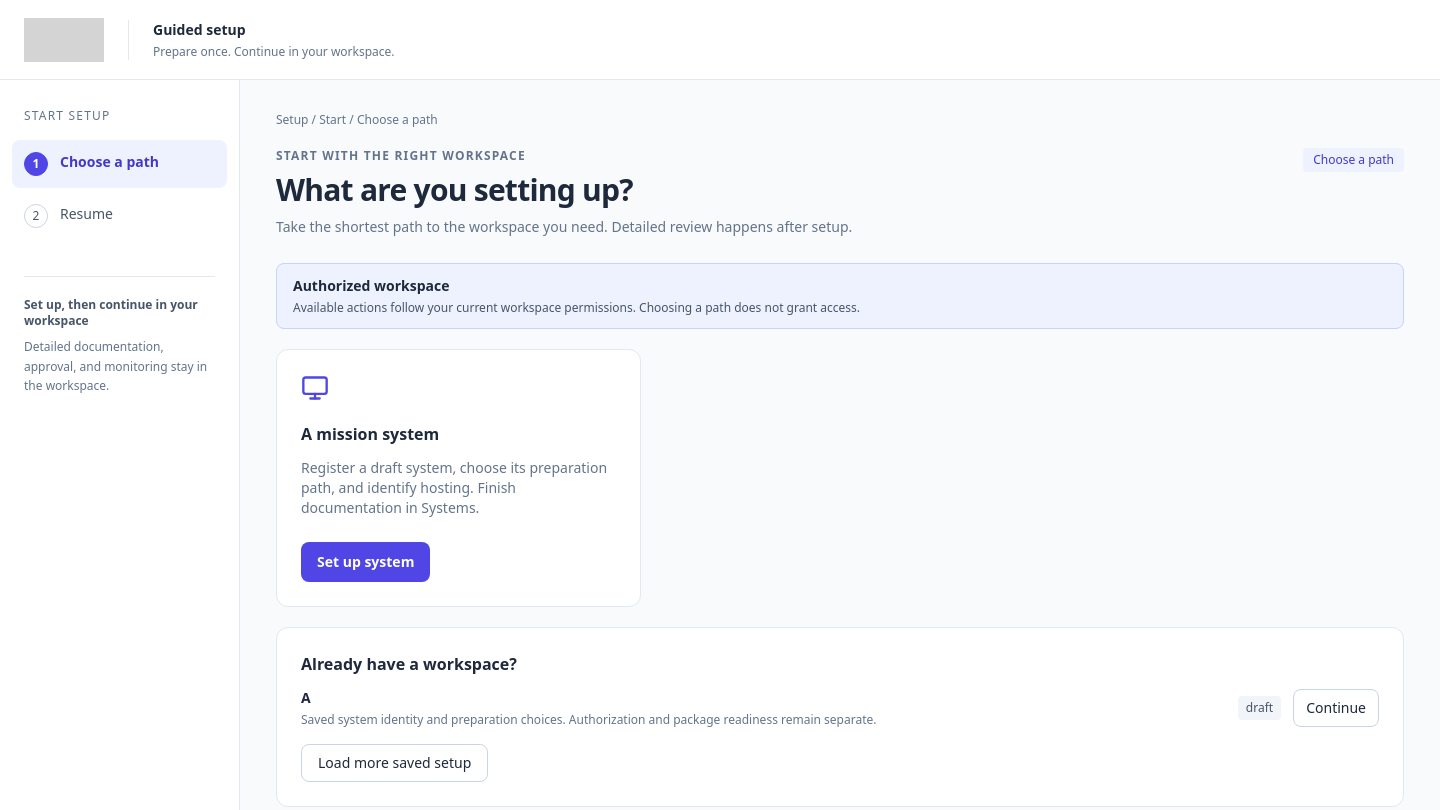
Scenario: setup entry canonical readers › uses opaque server cursors for system draft pagination
Click the button "Load more saved setup": (395, 763) [301,744,488,782]
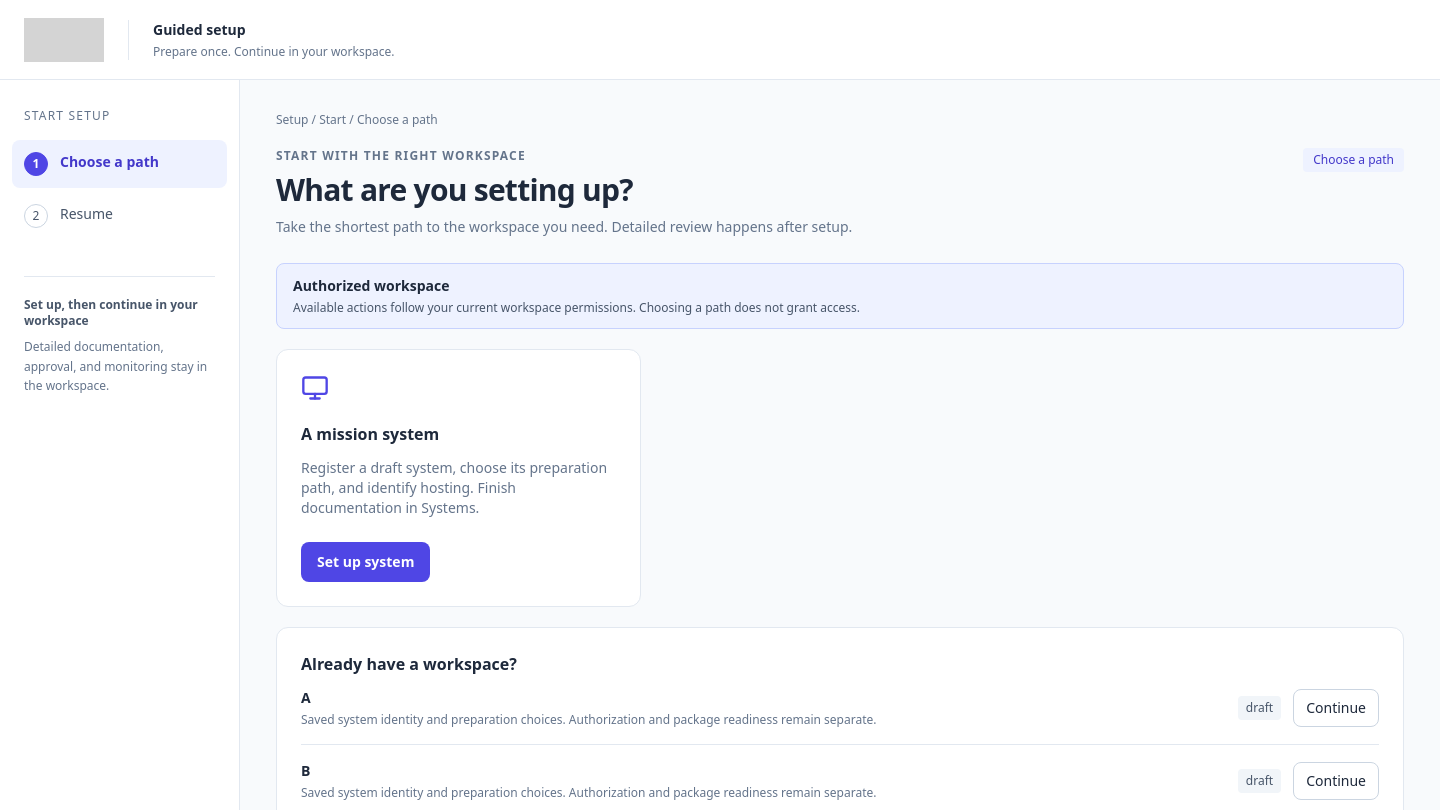
Expected: the link with aria-label "Continue A" is shown, [1293,689,1379,727]
Result: the link with aria-label "Continue B" is shown at [1293,762,1379,800]
